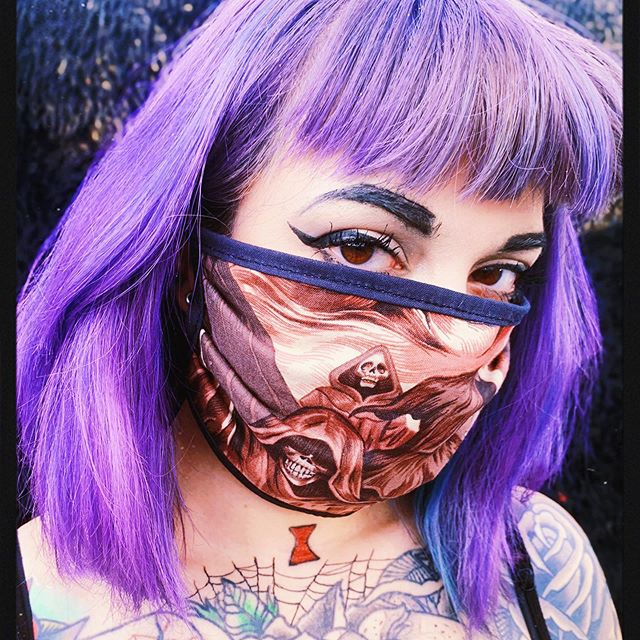homemade: (176, 263, 535, 525)
